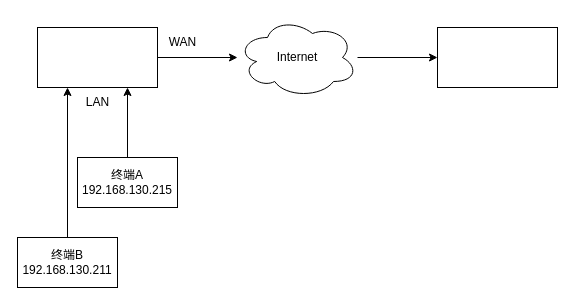
The diagram is 575 pixels wide and 305 high, and some of its shapes have lost their labels. The shapes that lost their labels are listed below. From the top down, each one's box as (x1, y1, x2, y2) in pixels, then its label:
(36, 26, 158, 88): 路由器A 公网ip：192.1.1.1
(436, 26, 558, 88): 服务器
